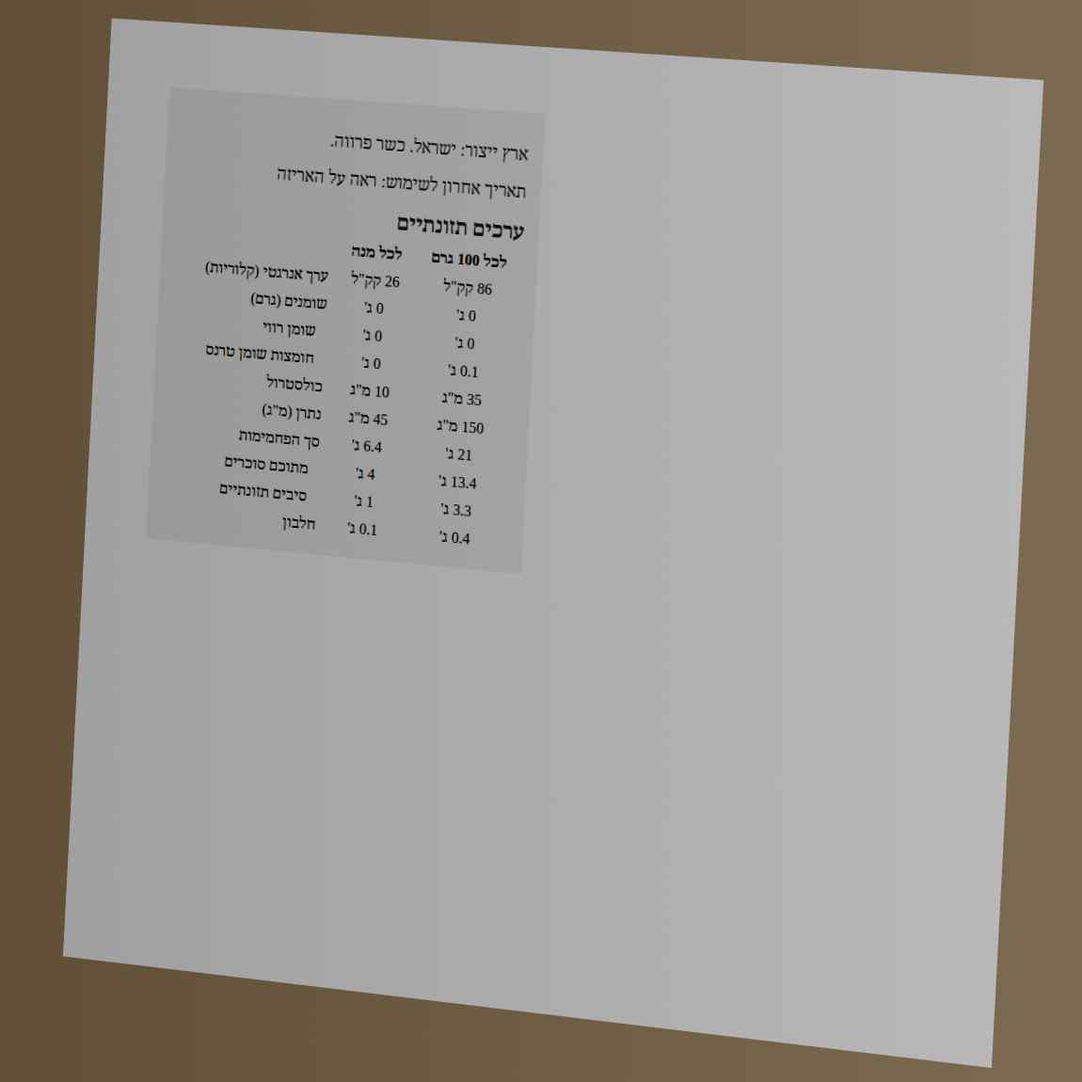carbs: (443, 442, 475, 468)
energy: (440, 275, 495, 302)
fat: (454, 304, 479, 329)
protein: (436, 525, 473, 552)
